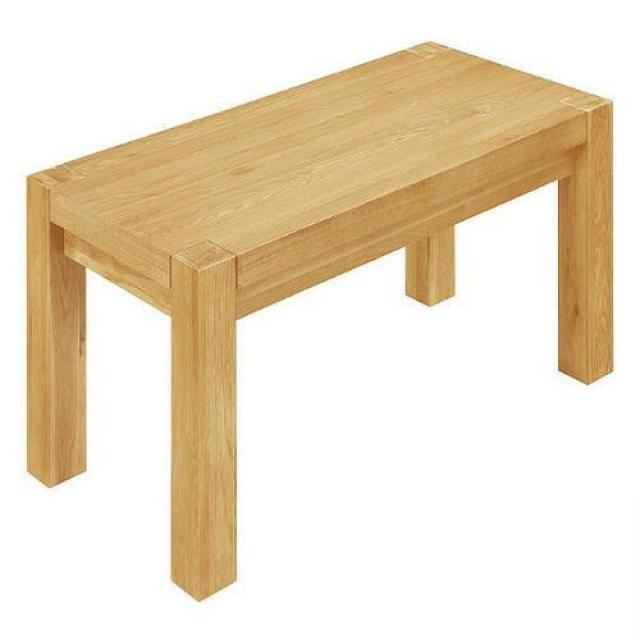table: (27, 44, 614, 603)
